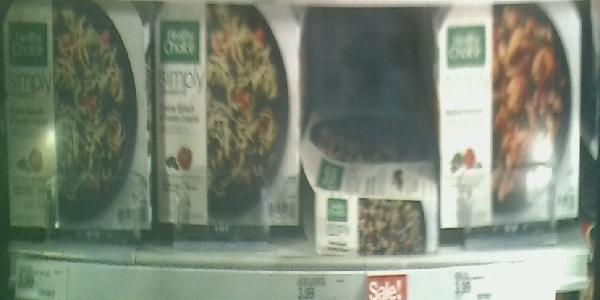pizza1: (435, 8, 584, 245), (155, 1, 299, 243), (3, 3, 149, 241)
